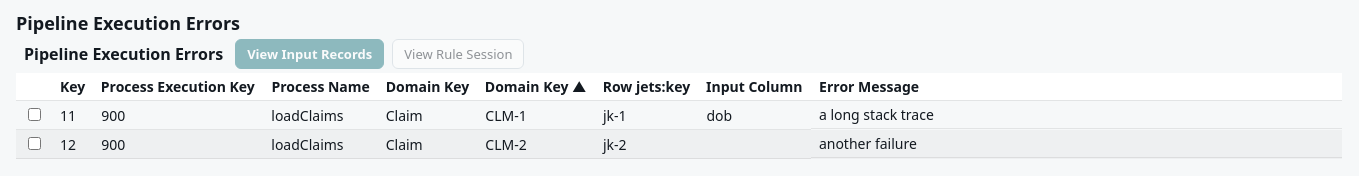
Test case: the screen › offers both row buttons only once a row is selected
expect the text "CLM-1" is shown: met, box 477,100 -> 595,130
expect the button "View Input Records" is disabled: met, box 235,39 -> 384,69
What coordinates should you click on to do the following:
click the checkbox named "Select row 1"
I would click on:
 (34, 114)
Its box is 28,108 -> 41,121.
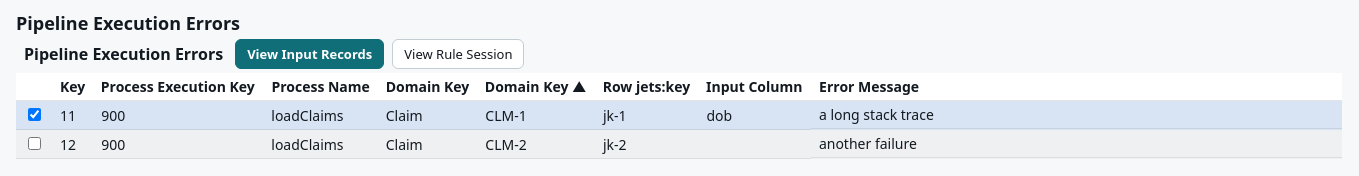
expect the checkbox named "Select row 1" is checked: met, box 28,108 -> 41,121
expect the button "View Input Records" is enabled: met, box 235,39 -> 384,69
expect the button "View Rule Session" is enabled: met, box 392,39 -> 524,69
